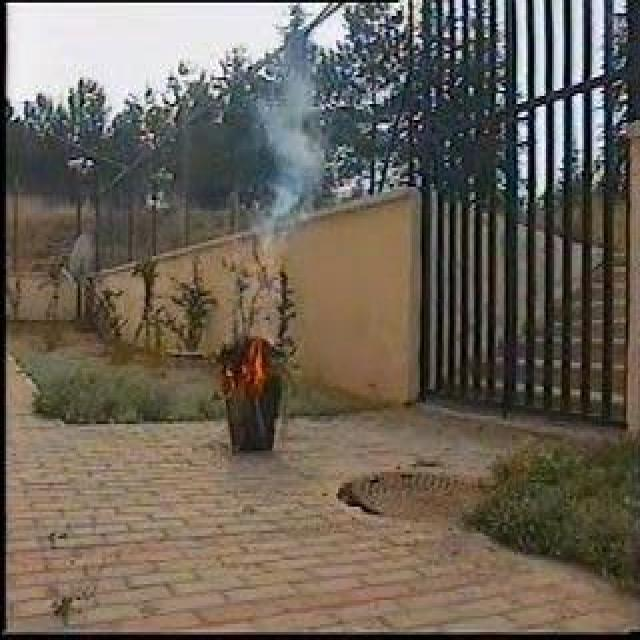fire: (217, 331, 271, 386)
smoke: (259, 38, 325, 222)
